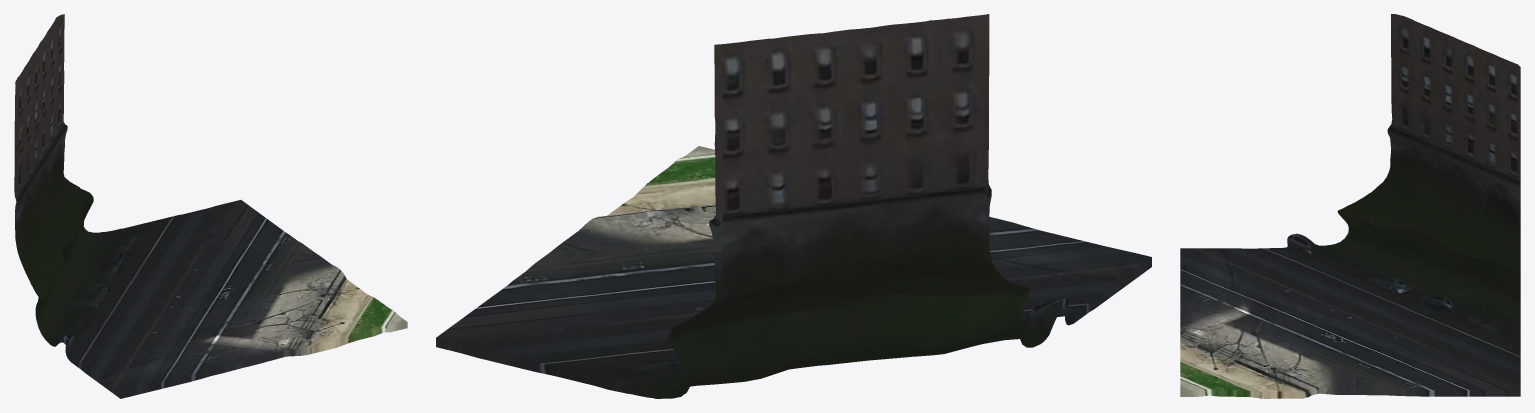
File: z20-167788-405225-h0-yup-uvflip-v3-world.glb
3 renders of one model, left to right at view 1: azimuth 30°, elevation 25°; view 2: azimuth 150°, elevation 25°; view 3: azimuth 270°, elevation 25°, orthographic. The views are drawn at different scales.
Size of the model in its own units: 30.16 by 23.84 by 30.32.
1 material, 1 textured.
